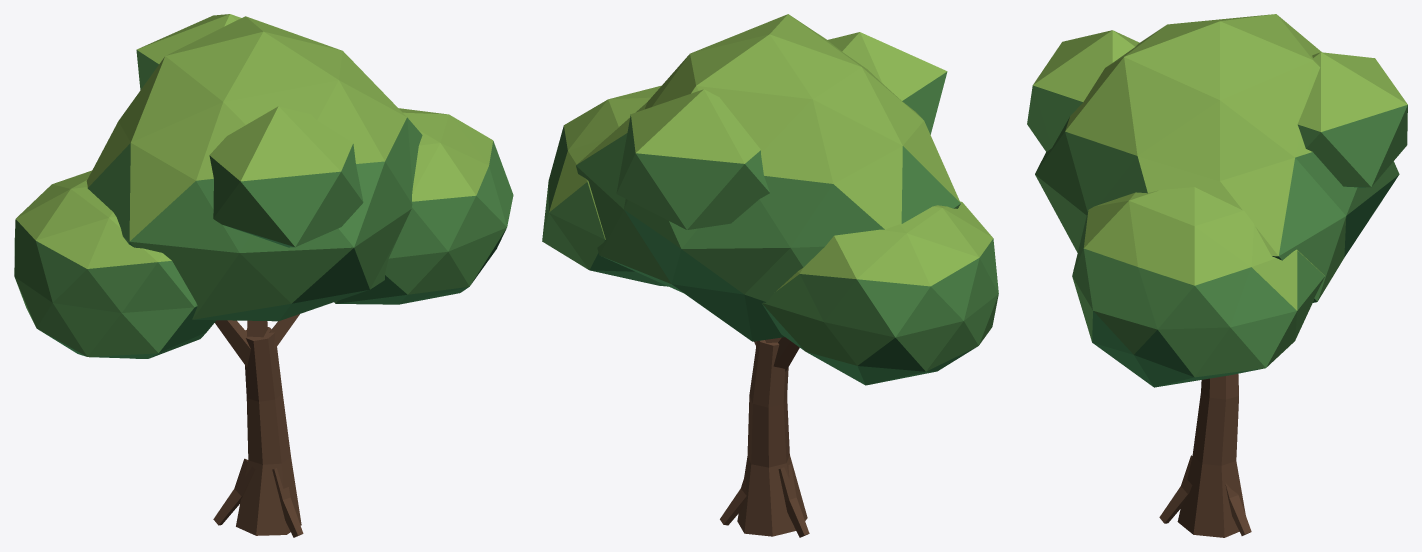
Rendered from tree_oak_a.glb.
The picture shows the model from 3 angles, left to right: view 1: azimuth 30°, elevation 25°; view 2: azimuth 150°, elevation 25°; view 3: azimuth 270°, elevation 25°; orthographic projection. The views are drawn at different scales.
Visible parts, largest first — view 1: Canopy, Trunk; view 2: Canopy, Trunk; view 3: Canopy, Trunk.
Boxes of the visible parts, x1,y1,x2,y2 form: Canopy: (14, 14, 513, 358); Trunk: (213, 314, 303, 537); Canopy: (542, 14, 998, 385); Trunk: (720, 337, 809, 537); Canopy: (1027, 14, 1407, 387); Trunk: (1159, 374, 1251, 537).
Size of the model in its own units: 8.24 by 8.77 by 6.03.
